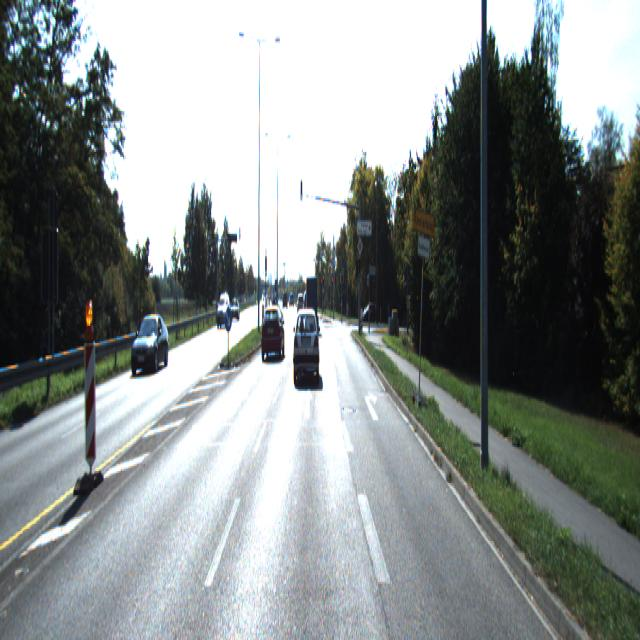Car: (130, 316, 169, 375), (293, 311, 320, 382), (260, 307, 286, 362), (217, 296, 232, 328)
DontCare: (281, 284, 305, 313), (362, 298, 378, 324), (230, 297, 240, 319)
Van: (305, 276, 318, 333)
